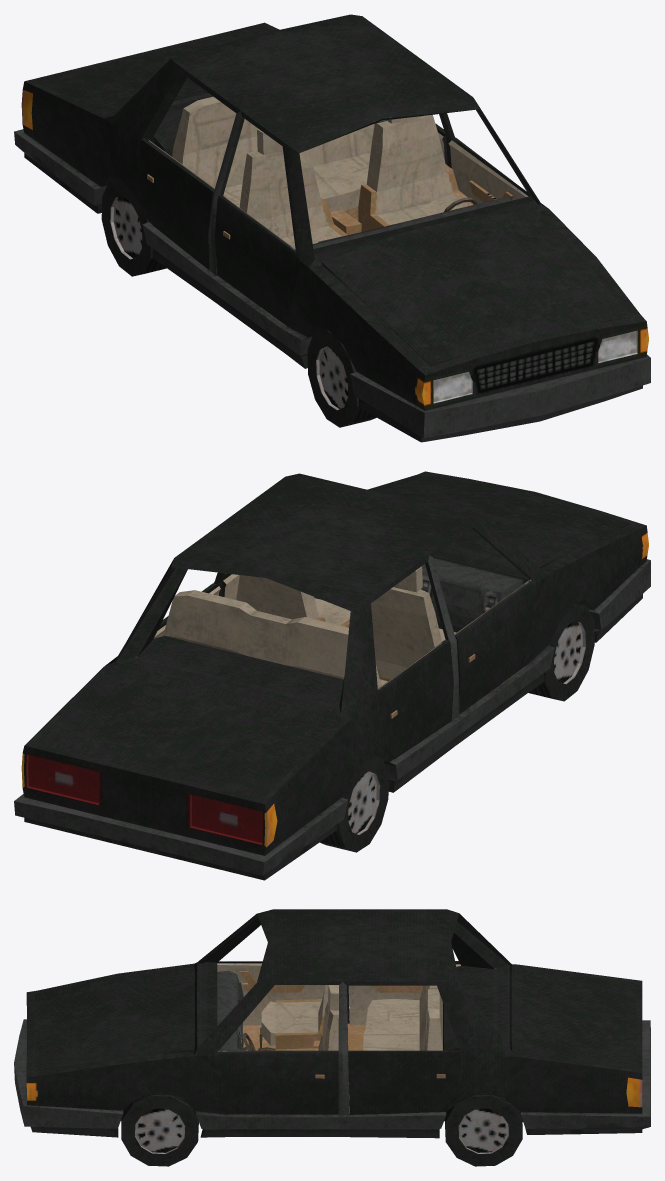
File: retro_car_with_interior_-_psx_asset_free.glb
3 views of the same model, one above another, from view 1: azimuth 30°, elevation 25°; view 2: azimuth 150°, elevation 25°; view 3: azimuth 270°, elevation 25° (orthographic). The views are drawn at different scales.
Visible parts, largest first — view 1: Car_Base, car_hood, R_Door_Front, R_Door_Back, trunk, R_Tire_Front, R_Tire_Back, L_Door_Front; view 2: Car_Base, trunk, car_hood, R_Door_Front, R_Door_Back, R_Tire_Back, R_Tire_Front, Car_Base_011; view 3: Car_Base, car_hood, trunk, L_Door_Front, L_Door_Back, L_Tire_front, L_Tire_Back, R_Door_Front, R_Door_Back.
Boxes of the visible parts, <box> form: Car_Base: <box>14,14,650,442</box>; car_hood: <box>322,210,630,366</box>; R_Door_Front: <box>214,195,300,325</box>; R_Door_Back: <box>140,138,214,270</box>; trunk: <box>34,26,272,115</box>; R_Tire_Front: <box>307,329,376,427</box>; R_Tire_Back: <box>101,179,166,276</box>; L_Door_Front: <box>448,137,529,203</box>; Car_Base: <box>14,471,650,880</box>; trunk: <box>34,672,333,799</box>; car_hood: <box>377,475,629,568</box>; R_Door_Front: <box>454,579,540,714</box>; R_Door_Back: <box>377,640,453,758</box>; R_Tire_Back: <box>320,754,388,852</box>; R_Tire_Front: <box>528,603,594,701</box>; Car_Base_011: <box>431,580,482,612</box>; Car_Base: <box>14,909,650,1138</box>; car_hood: <box>34,967,195,1070</box>; trunk: <box>523,967,636,1069</box>; L_Door_Front: <box>208,1050,338,1114</box>; L_Door_Back: <box>348,1050,461,1114</box>; L_Tire_front: <box>121,1093,198,1166</box>; L_Tire_Back: <box>445,1093,522,1166</box>; R_Door_Front: <box>217,961,324,1025</box>; R_Door_Back: <box>348,961,460,1025</box>.
Bounding box in the file's own units: 1.71 × 1.48 × 4.73.
Materials: 2 (2 with a texture image).
